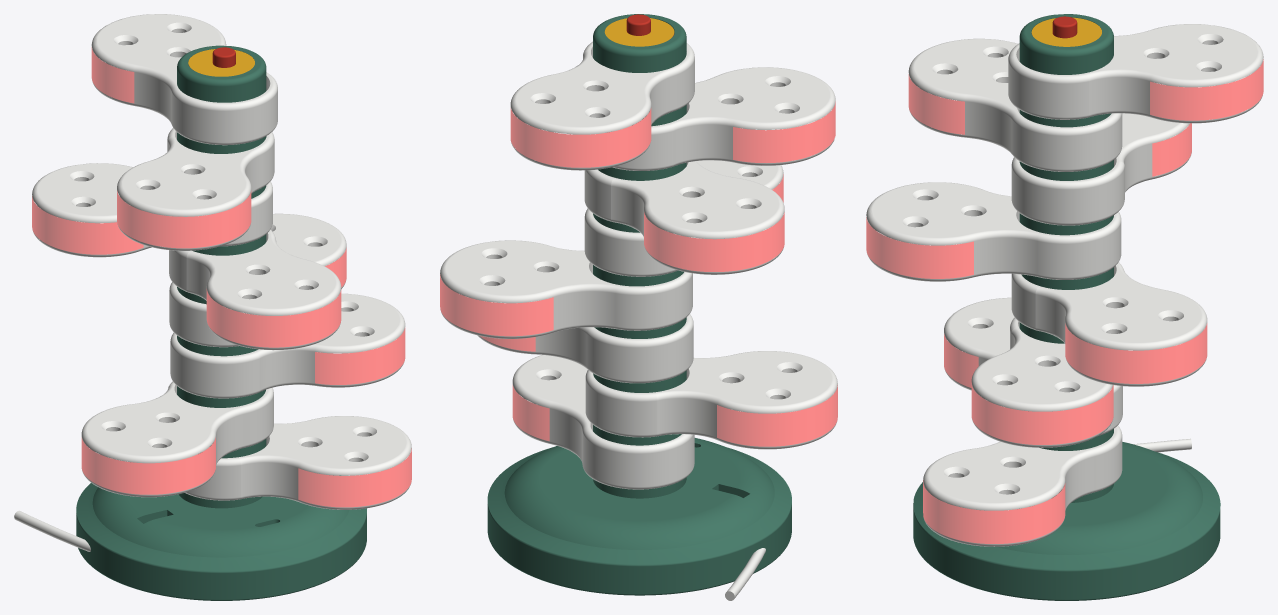
Rendered from board - Copy.glb.
3 renders of one model, left to right at view 1: azimuth 30°, elevation 25°; view 2: azimuth 150°, elevation 25°; view 3: azimuth 270°, elevation 25°, orthographic. The views are drawn at different scales.
Bounding box in the file's own units: 0.1642 × 0.2405 × 0.1675.
